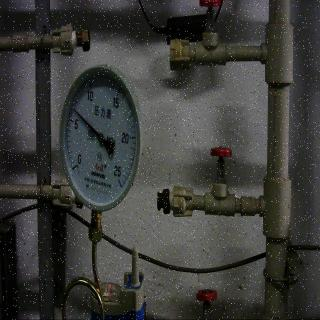gauge: (54, 47, 146, 221), (66, 160, 82, 177), (112, 174, 128, 190), (96, 130, 108, 145), (69, 105, 79, 115)
